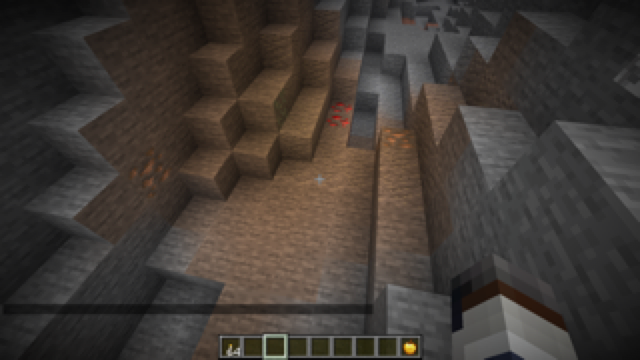iron: (128, 148, 174, 199), (377, 125, 419, 155)
redstone: (326, 96, 351, 131)
